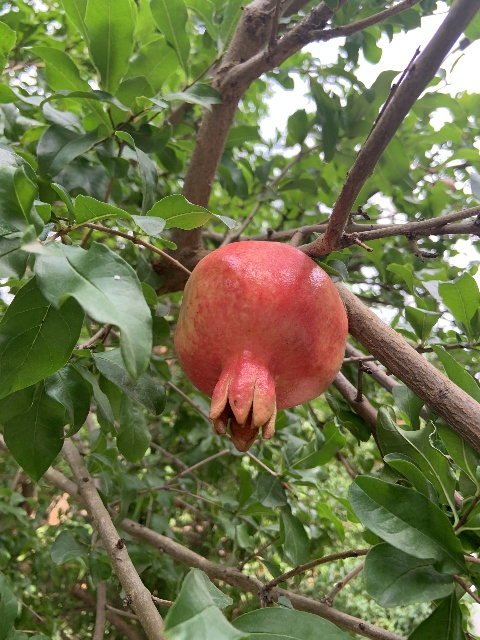ripe: (174, 240, 347, 449)
